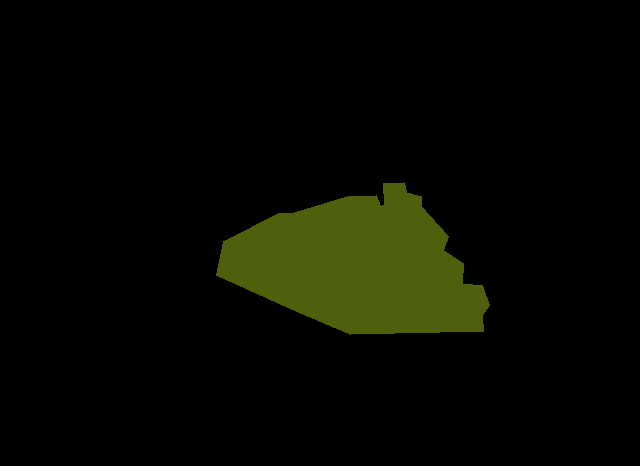Train: (216, 182, 490, 335)
